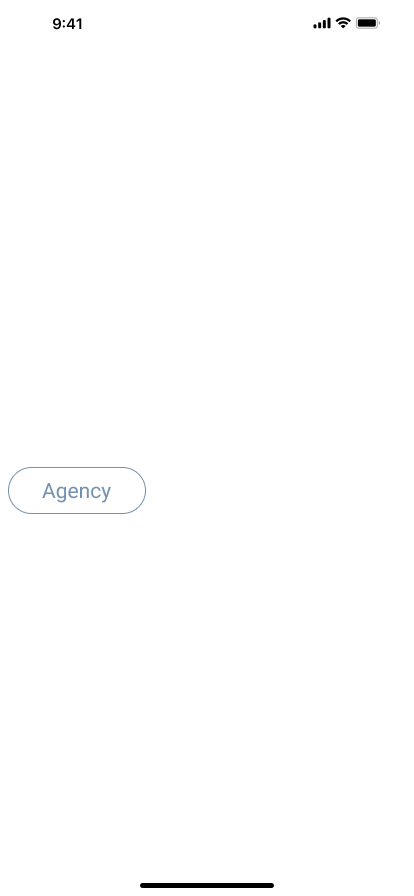Buttons: (8, 467, 154, 514)
Home Indicator: (0, 862, 414, 896)
Status Bar: (0, 0, 414, 44)
